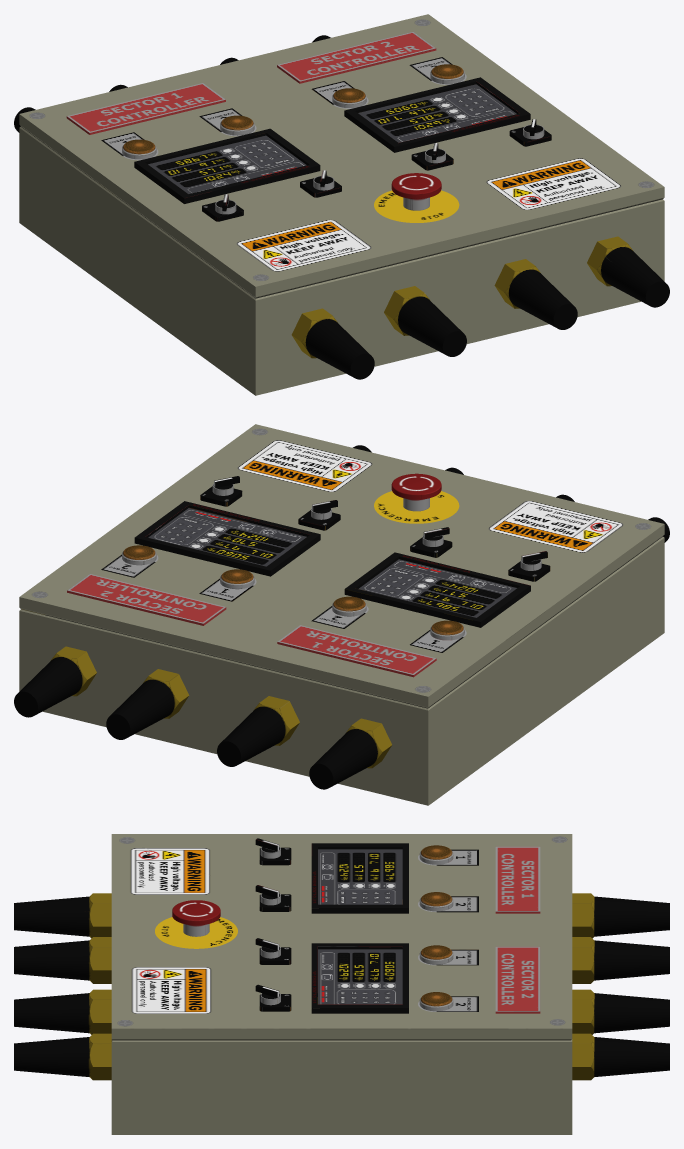
The model's file is Switch_Light.fbx.
3 views of the same model, one above another, from view 1: azimuth 30°, elevation 25°; view 2: azimuth 150°, elevation 25°; view 3: azimuth 270°, elevation 25° (orthographic). The views are drawn at different scales.
Visible parts, largest first — view 1: Electrical_Box; view 2: Electrical_Box; view 3: Electrical_Box.
Boxes of the visible parts, x1,y1,x2,y2 form: Electrical_Box: (14, 14, 669, 395); Electrical_Box: (14, 424, 669, 805); Electrical_Box: (14, 834, 669, 1134).
Size of the model in its own units: 2920 by 898 by 4160.
